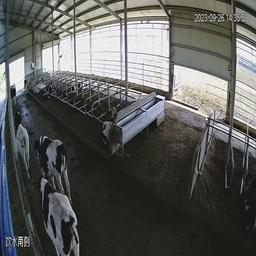cow: (36, 159, 73, 250), (28, 131, 66, 208), (239, 172, 256, 233), (15, 118, 31, 174), (102, 102, 119, 149), (12, 109, 24, 135), (42, 82, 56, 103), (64, 80, 82, 96), (8, 81, 17, 108), (33, 79, 47, 95), (23, 76, 29, 97)
